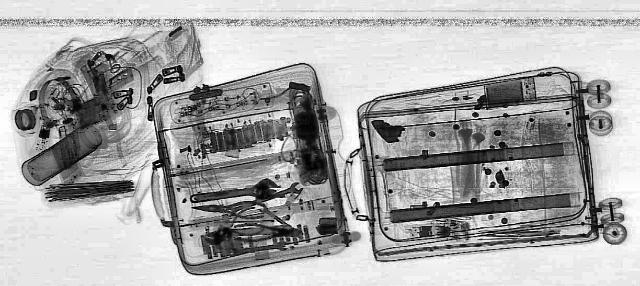Pliers: (189, 197, 273, 221), (226, 222, 304, 242)
Wrench: (180, 177, 288, 209), (216, 182, 310, 214), (194, 220, 296, 246), (222, 241, 292, 257)
